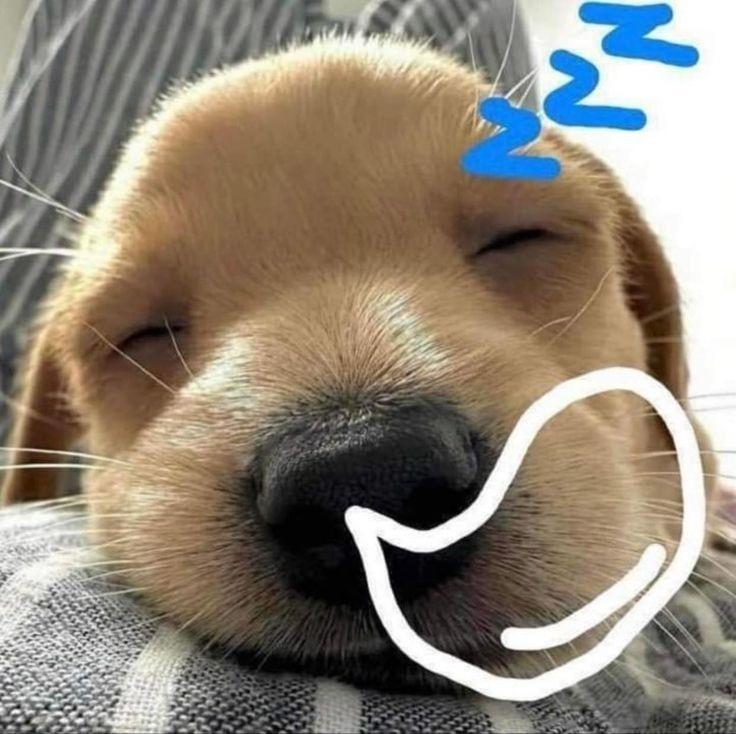puppy-dog: (11, 29, 716, 690)
